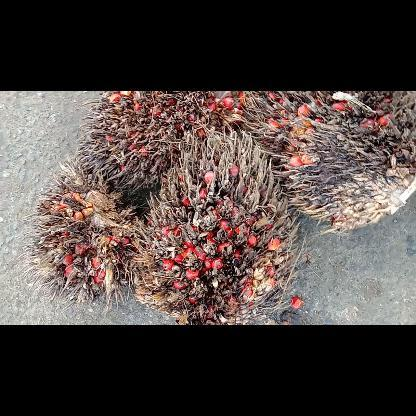Terlalu masak: (128, 126, 312, 324), (235, 90, 415, 238), (16, 158, 152, 315), (72, 90, 228, 198)
